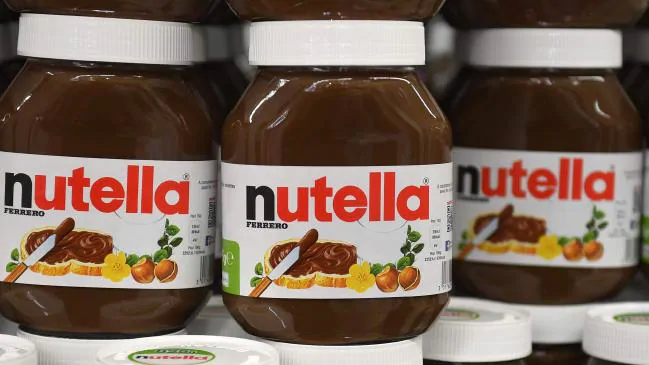nutella: (220, 20, 453, 347), (1, 9, 215, 340), (453, 28, 644, 307)
